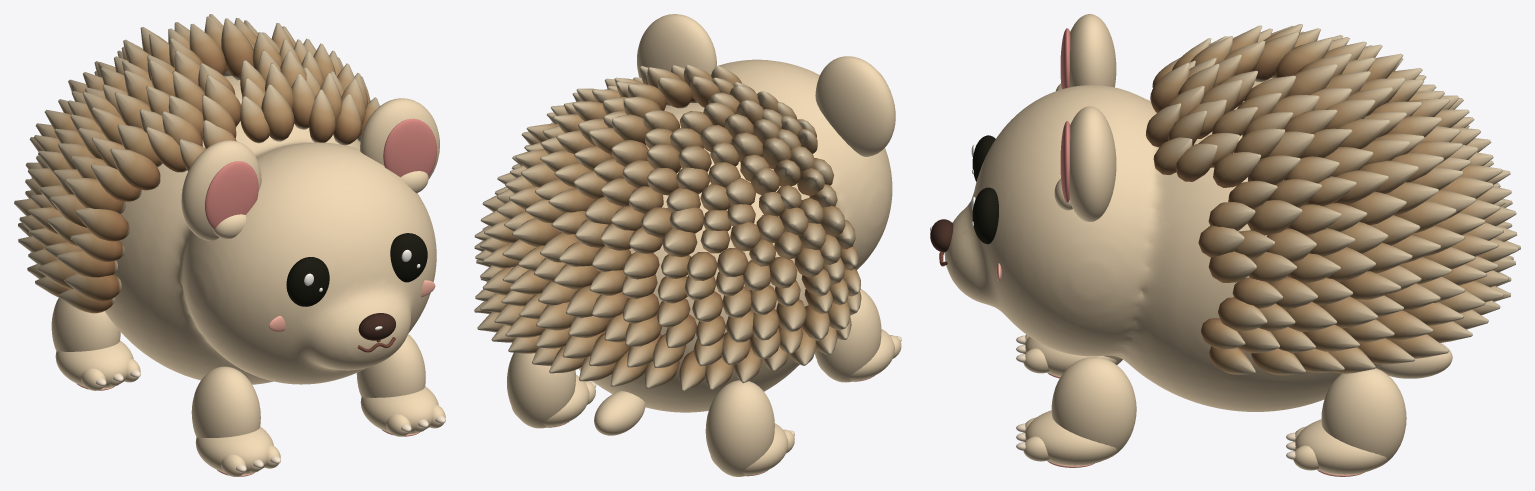
File: hedgehog-stage-03.glb
The picture shows the model from 3 angles, left to right: view 1: azimuth 30°, elevation 25°; view 2: azimuth 150°, elevation 25°; view 3: azimuth 270°, elevation 25°; orthographic projection. The views are drawn at different scales.
Visible parts, largest first — view 1: S03 • seamless sculpted body and face, S03 • 231 individually formed rounded quills, S03 • L front leg, S03 • L ear • outer rim, S03 • R front leg, S03 • L rear leg, S03 • L ear • recessed inner bowl, S03 • R ear • recessed inner bowl, S03 • R ear • outer rim, S03 • L rear paw, S03 • R front paw, S03 • L front paw (+4 smaller); view 2: S03 • 231 individually formed rounded quills, S03 • seamless sculpted body and face, S03 • L ear • outer rim, S03 • L rear leg, S03 • R ear • outer rim, S03 • R rear leg, S03 • L front leg, S03 • small tail, S03 • L rear paw, S03 • L front paw, S03 • R rear paw; view 3: S03 • 231 individually formed rounded quills, S03 • seamless sculpted body and face, S03 • R front leg, S03 • R rear leg, S03 • R ear • outer rim, S03 • L ear • outer rim, S03 • R front paw, S03 • R rear paw, S03 • R glossy eye, S03 • small tail, S03 • L front paw, S03 • R ear • recessed inner bowl (+1 smaller).
Boxes of the visible parts, box(x1,y1,x2,y2) form: S03 • seamless sculpted body and face: box(105, 76, 436, 384); S03 • 231 individually formed rounded quills: box(14, 14, 379, 313); S03 • L front leg: box(191, 366, 260, 437); S03 • L ear • outer rim: box(181, 140, 261, 240); S03 • R front leg: box(356, 334, 425, 397); S03 • L rear leg: box(51, 298, 120, 351); S03 • L ear • recessed inner bowl: box(205, 161, 258, 229); S03 • R ear • recessed inner bowl: box(383, 118, 436, 177); S03 • R ear • outer rim: box(360, 98, 439, 178); S03 • L rear paw: box(55, 340, 133, 388); S03 • R front paw: box(360, 386, 438, 434); S03 • L front paw: box(195, 426, 273, 474); S03 • 231 individually formed rounded quills: box(474, 65, 861, 391); S03 • seamless sculpted body and face: box(578, 59, 892, 412); S03 • L ear • outer rim: box(815, 56, 895, 156); S03 • L rear leg: box(705, 380, 774, 476); S03 • R ear • outer rim: box(637, 14, 716, 77); S03 • R rear leg: box(507, 352, 575, 428); S03 • L front leg: box(814, 289, 881, 382); S03 • small tail: box(594, 391, 645, 435); S03 • L rear paw: box(710, 423, 788, 475); S03 • L front paw: box(817, 329, 894, 380); S03 • R rear paw: box(511, 375, 589, 426); S03 • 231 individually formed rounded quills: box(1146, 24, 1520, 375); S03 • seamless sculpted body and face: box(944, 78, 1381, 411); S03 • R front leg: box(1051, 357, 1136, 459); S03 • R rear leg: box(1321, 368, 1406, 468); S03 • R ear • outer rim: box(1069, 106, 1116, 221); S03 • L ear • outer rim: box(1069, 14, 1116, 87); S03 • R front paw: box(1025, 410, 1117, 465); S03 • R rear paw: box(1295, 419, 1387, 474); S03 • R glossy eye: box(972, 187, 998, 244); S03 • small tail: box(1377, 343, 1452, 378); S03 • L front paw: box(1025, 336, 1117, 376); S03 • R ear • recessed inner bowl: box(1060, 121, 1070, 202).
Size of the model in its own units: 1.31 by 1.21 by 1.76.
